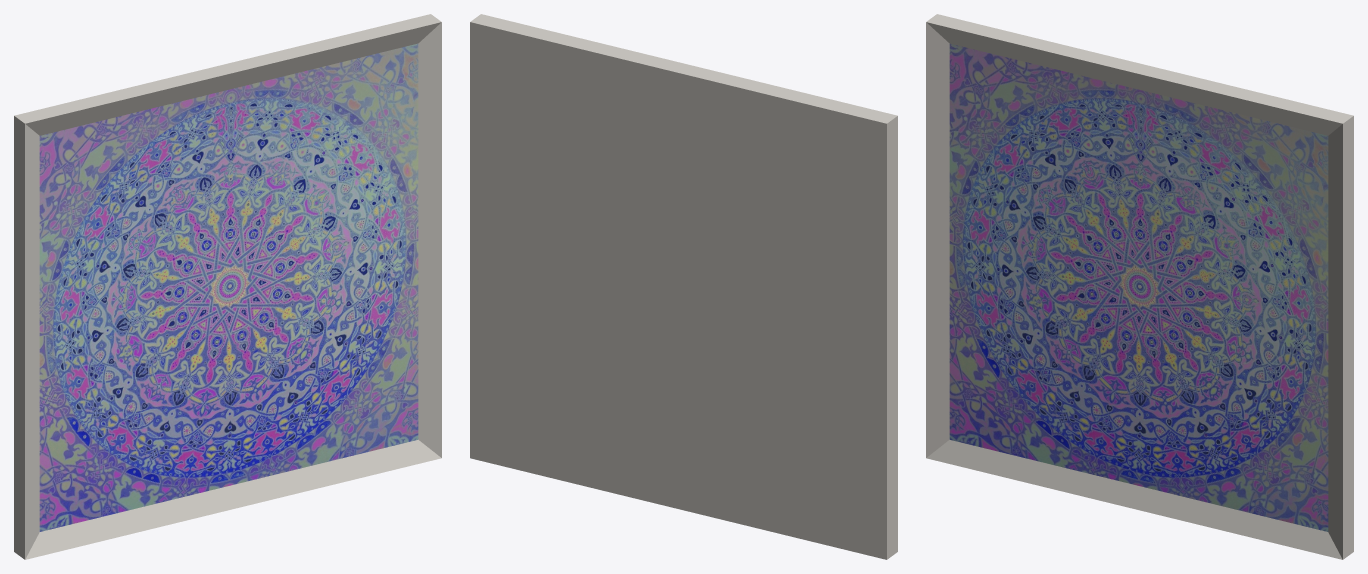
Rendered from tridecagon-moon-star-tridecagon-supernova-violet-a1-white-v2.glb.
3 renders of one model, left to right at view 1: azimuth 30°, elevation 25°; view 2: azimuth 150°, elevation 25°; view 3: azimuth 330°, elevation 25°, orthographic.
Visible parts, largest first — view 1: FramedPrint; view 2: FramedPrint; view 3: FramedPrint.
Part boxes in pixels (bbox=[...]): FramedPrint: bbox=[14, 14, 441, 559]; FramedPrint: bbox=[470, 14, 897, 559]; FramedPrint: bbox=[926, 14, 1353, 559].
Bounding box in the file's own units: 0.655 × 0.655 × 0.03.
2 materials, 1 textured.
